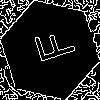F: (25, 25, 76, 69)
